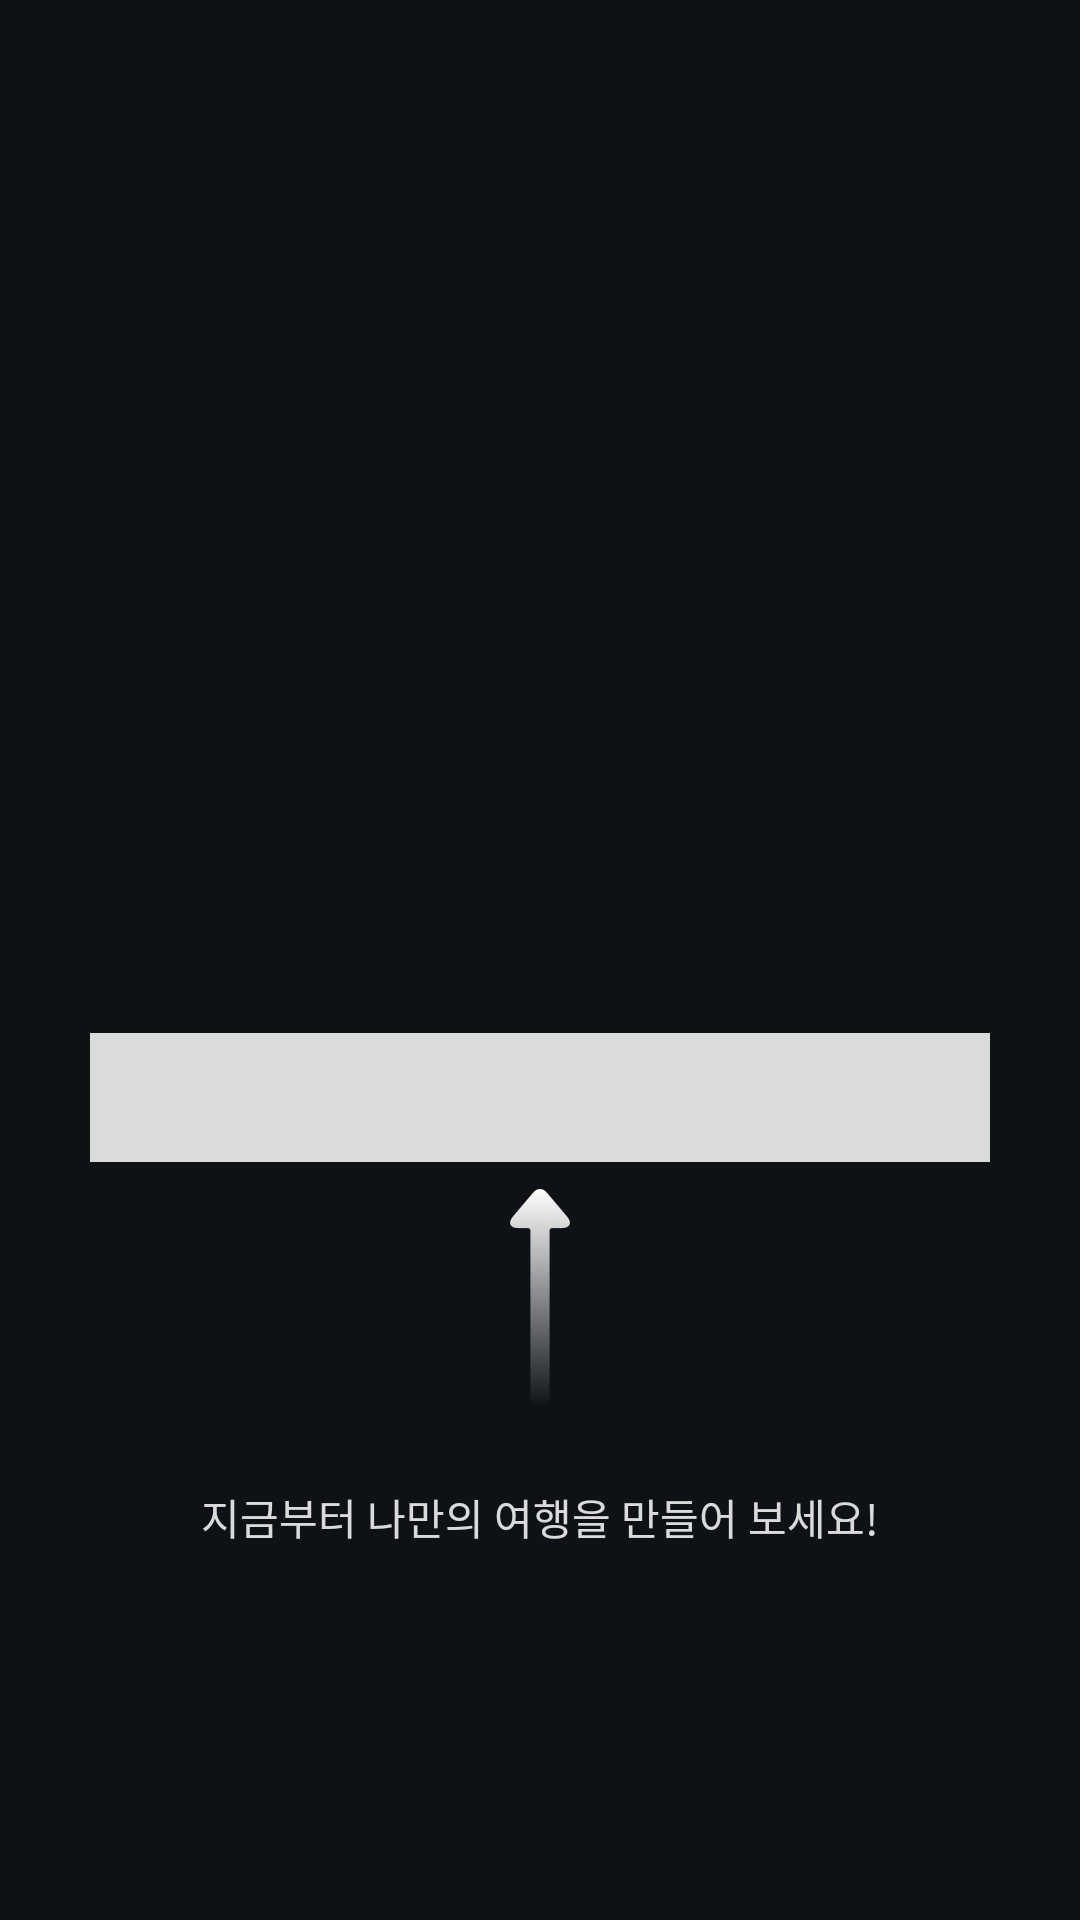

Point at icon controls on the screen. Image size 1080w x 1920h, points as (x=x, y=y).
coachmark up: (x=540, y=1287)
